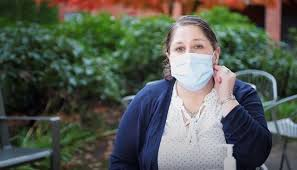FaceMask: (169, 52, 214, 90)
